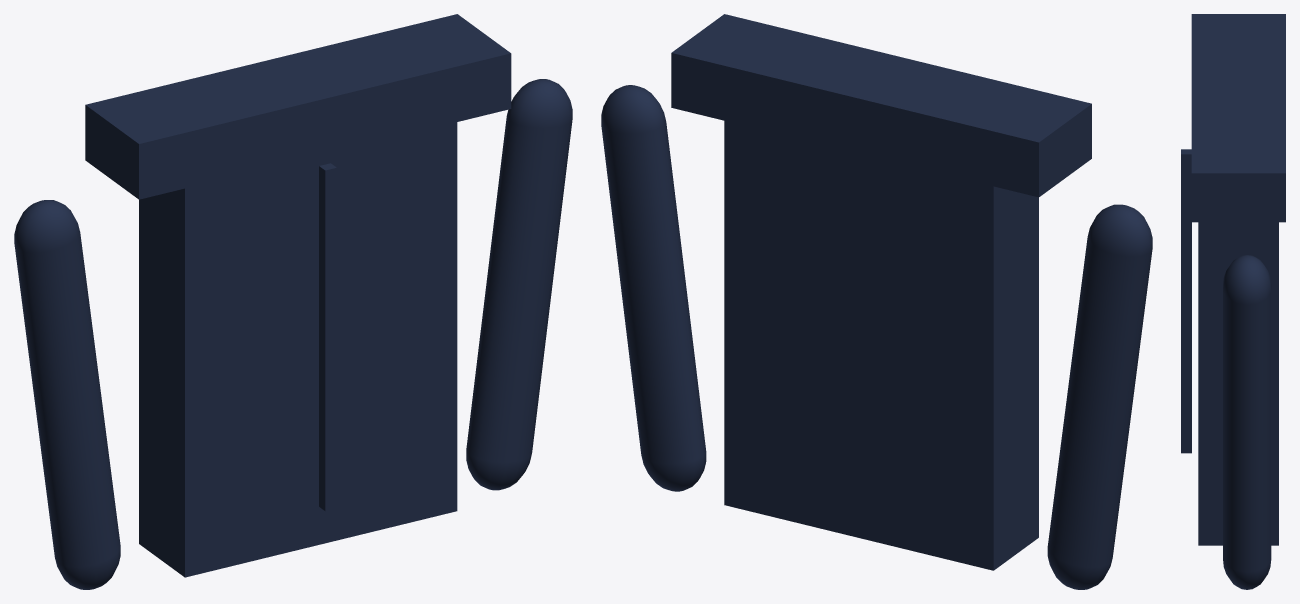
The model's file is single-breasted-two-button.glb.
3 views of the same model, side by side, from view 1: azimuth 30°, elevation 25°; view 2: azimuth 150°, elevation 25°; view 3: azimuth 270°, elevation 25° (orthographic). The views are drawn at different scales.
Parts seen in each view (by area): view 1: Jacket_SingleBreastedTwoButton, Shoulder_SingleBreastedTwoButton, Sleeve_Right_SingleBreastedTwoButton, Sleeve_Left_SingleBreastedTwoButton, Jacket_FrontEdge_SingleBreastedTwoButton; view 2: Jacket_SingleBreastedTwoButton, Shoulder_SingleBreastedTwoButton, Sleeve_Right_SingleBreastedTwoButton, Sleeve_Left_SingleBreastedTwoButton; view 3: Shoulder_SingleBreastedTwoButton, Sleeve_Right_SingleBreastedTwoButton, Jacket_SingleBreastedTwoButton, Jacket_FrontEdge_SingleBreastedTwoButton.
Part boxes in pixels (x1,y1,x2,y2): Jacket_SingleBreastedTwoButton: [139, 122, 457, 577]; Shoulder_SingleBreastedTwoButton: [85, 14, 511, 199]; Sleeve_Right_SingleBreastedTwoButton: [466, 79, 572, 490]; Sleeve_Left_SingleBreastedTwoButton: [14, 200, 120, 589]; Jacket_FrontEdge_SingleBreastedTwoButton: [319, 163, 336, 511]; Jacket_SingleBreastedTwoButton: [724, 121, 1038, 570]; Shoulder_SingleBreastedTwoButton: [671, 14, 1091, 197]; Sleeve_Right_SingleBreastedTwoButton: [601, 85, 706, 491]; Sleeve_Left_SingleBreastedTwoButton: [1047, 204, 1152, 589]; Shoulder_SingleBreastedTwoButton: [1191, 14, 1285, 222]; Sleeve_Right_SingleBreastedTwoButton: [1223, 255, 1271, 589]; Jacket_SingleBreastedTwoButton: [1198, 222, 1278, 545]; Jacket_FrontEdge_SingleBreastedTwoButton: [1181, 149, 1191, 453].
Size of the model in its own units: 1.66 by 1.33 by 0.311.
